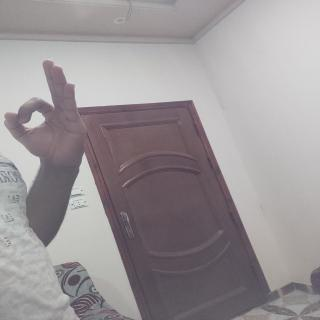Space: (5, 55, 93, 162)
